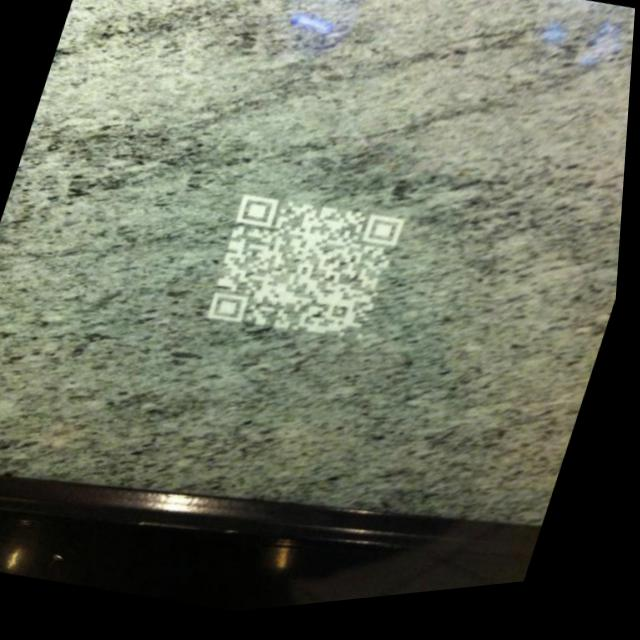qrcode: (206, 186, 411, 366)
